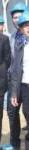boots: (0, 121, 8, 131), (0, 137, 9, 145)
hard-hat: (0, 6, 10, 21)
